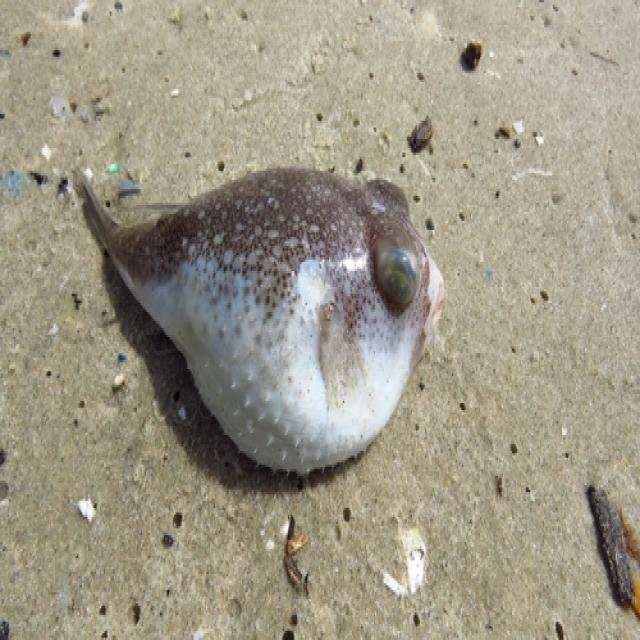Balik: (82, 169, 444, 473)
